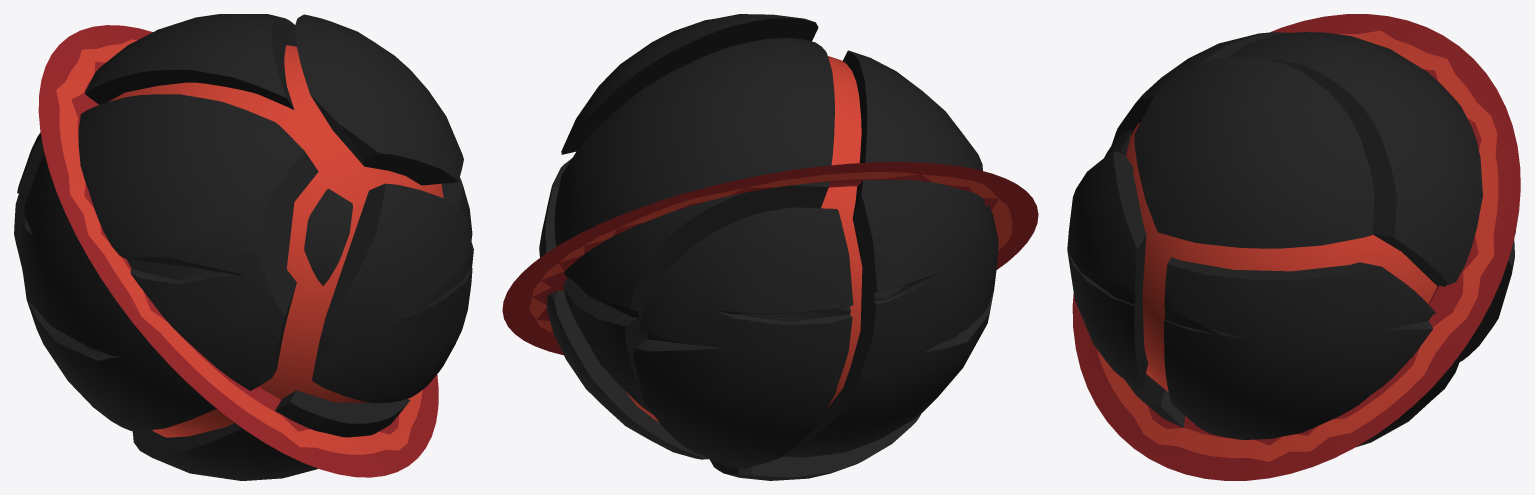
File: planet.glb
3 renders of one model, left to right at view 1: azimuth 30°, elevation 25°; view 2: azimuth 150°, elevation 25°; view 3: azimuth 270°, elevation 25°, orthographic. The views are drawn at different scales.
Visible parts, largest first — view 1: Planet_11, Planet_10; view 2: Planet_11, Planet_10; view 3: Planet_11, Planet_10.
Part boxes in pixels (<box>): Planet_11: <box>14,14,473,480</box>; Planet_10: <box>38,25,438,477</box>; Planet_11: <box>539,14,998,480</box>; Planet_10: <box>502,162,1038,355</box>; Planet_11: <box>1067,32,1515,447</box>; Planet_10: <box>1072,14,1520,480</box>.
Size of what is drawn, in the model's own units: 5.74 by 5.67 by 5.8.
Materials: 1 (1 with a texture image).
